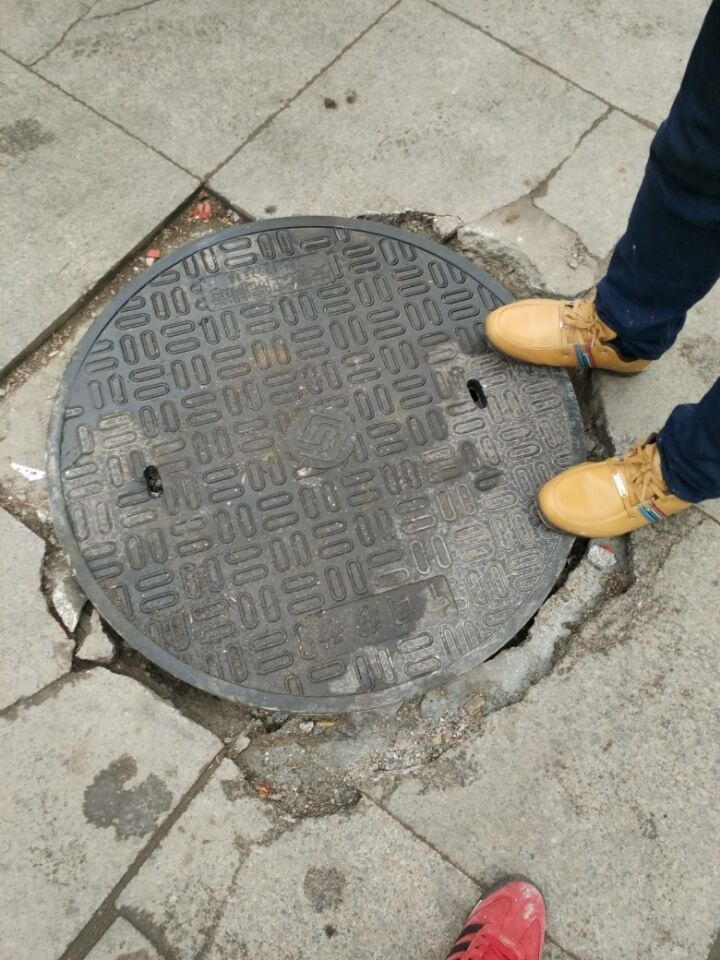uncovered: (49, 215, 590, 716)
